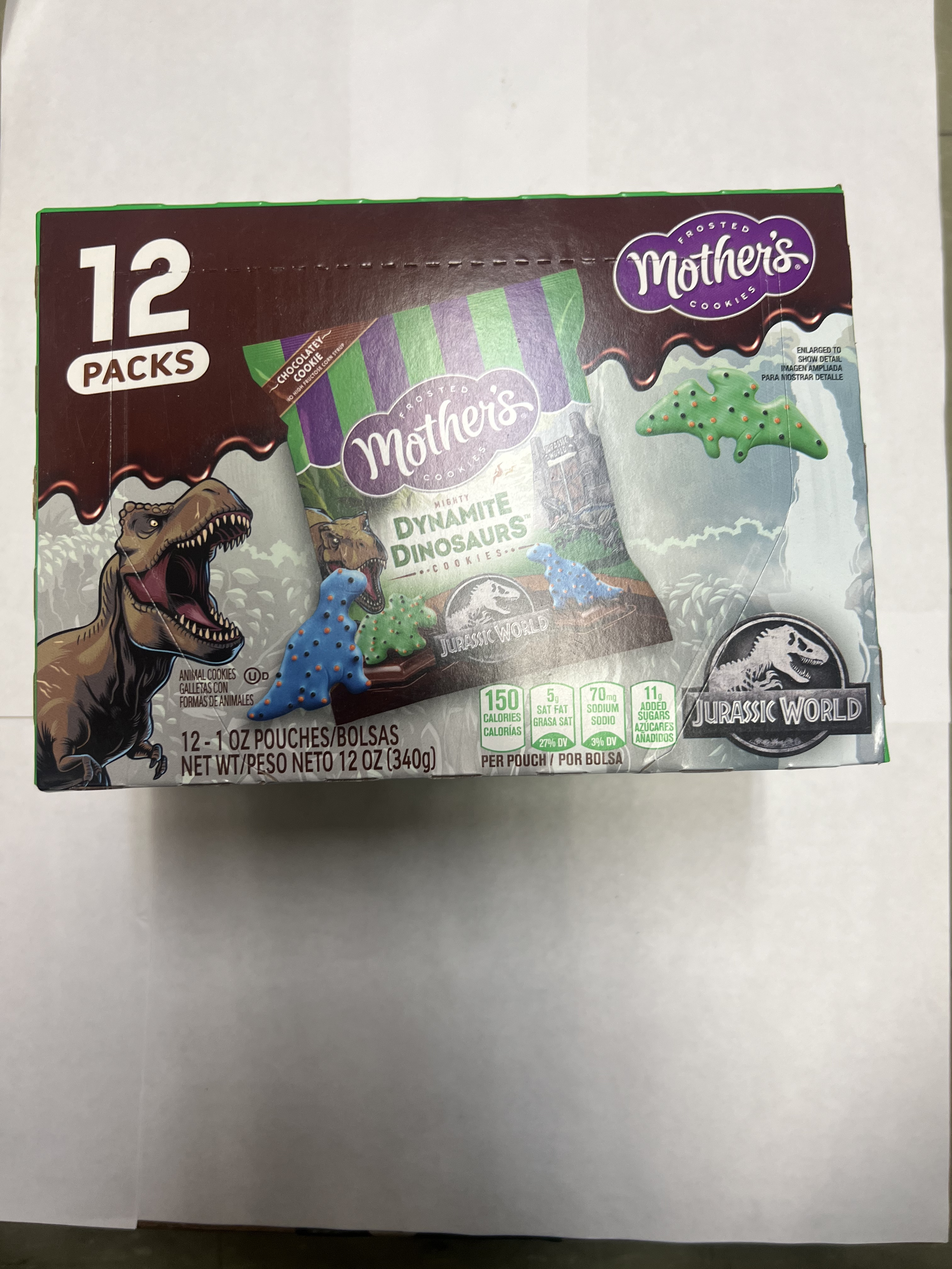packaged: (27, 181, 891, 794)
